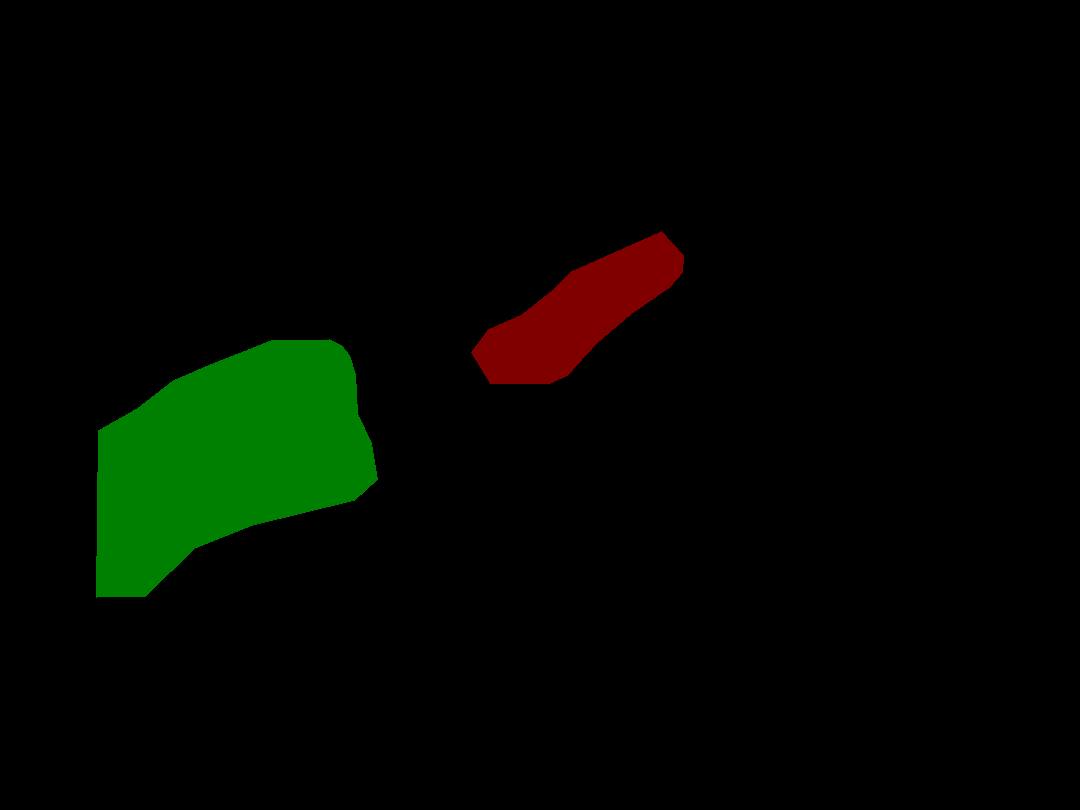fire: (96, 339, 377, 597), (471, 231, 683, 383)
